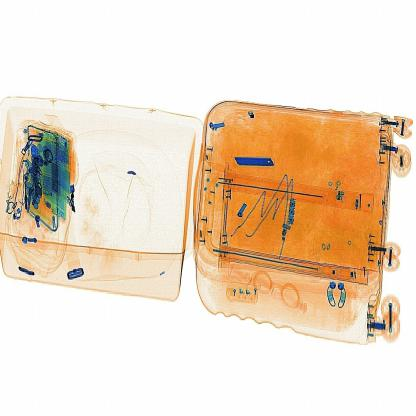pliers: (231, 154, 281, 178)
